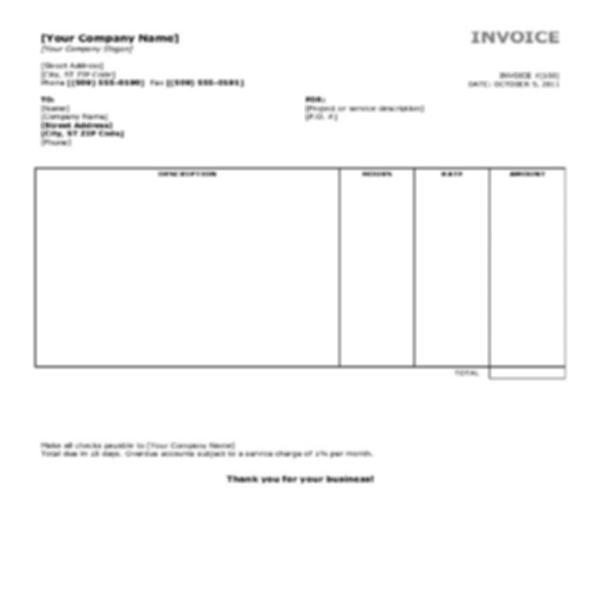test: (35, 167, 565, 377)
